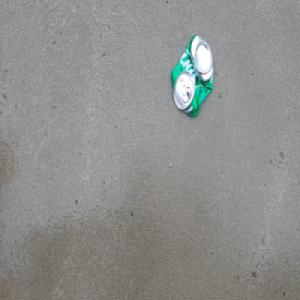SodaCan: (169, 32, 215, 119)
